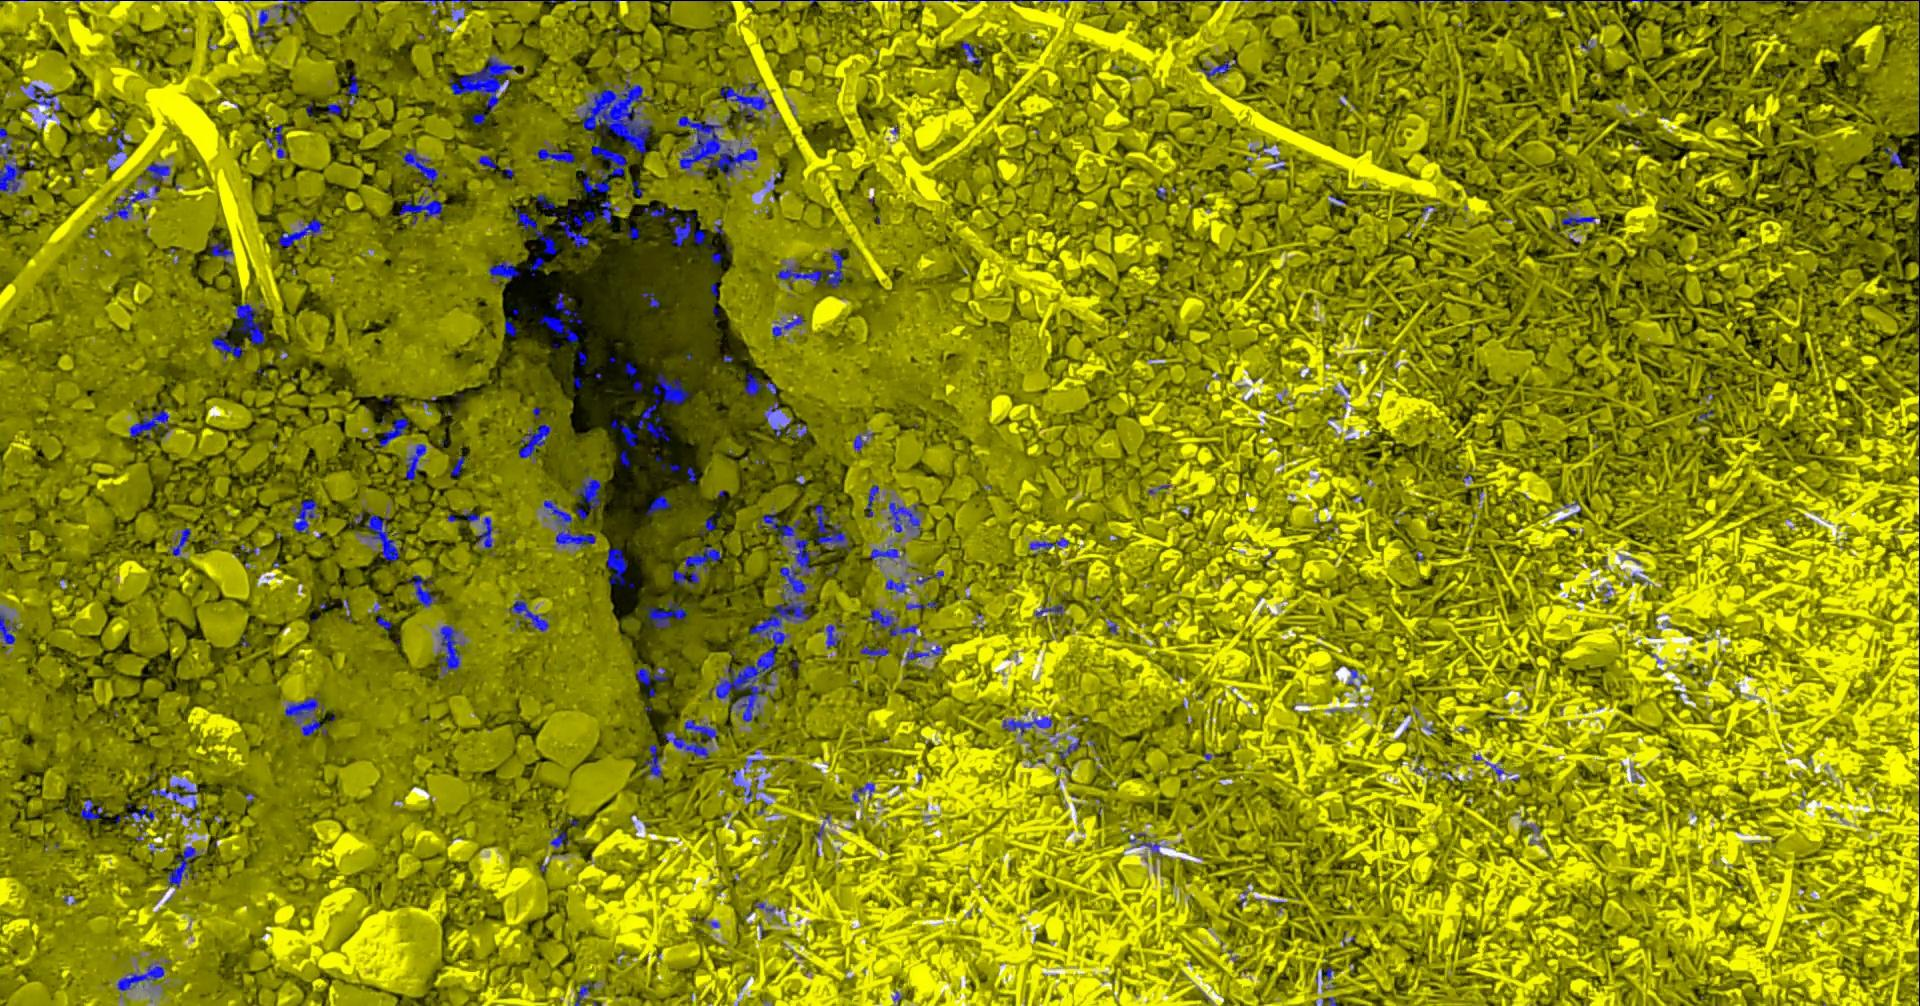ant: (211, 302, 264, 358), (776, 249, 847, 290), (582, 141, 626, 196), (543, 500, 596, 546), (719, 83, 773, 122), (663, 719, 716, 758), (670, 546, 721, 587), (514, 207, 556, 254), (0, 127, 25, 193), (284, 696, 326, 735), (363, 514, 399, 560), (813, 503, 847, 549), (102, 188, 149, 221), (397, 149, 438, 185), (863, 608, 917, 636), (397, 192, 442, 225), (557, 208, 596, 246), (277, 218, 323, 249), (116, 962, 163, 989), (508, 600, 549, 631), (130, 409, 169, 439), (573, 475, 599, 520), (518, 423, 551, 459), (168, 845, 196, 887), (644, 600, 684, 627), (888, 500, 919, 536), (437, 625, 460, 673), (538, 314, 578, 342), (606, 547, 632, 587), (670, 215, 703, 246), (635, 666, 668, 696), (290, 498, 317, 533), (378, 417, 411, 446), (1250, 142, 1284, 170), (1002, 716, 1051, 735), (408, 574, 437, 606), (554, 291, 582, 324), (477, 155, 514, 177), (143, 163, 169, 193), (249, 9, 273, 41), (743, 372, 776, 395), (405, 443, 425, 480), (610, 419, 637, 446), (771, 314, 803, 337), (114, 804, 155, 822), (905, 645, 943, 663), (264, 124, 284, 158), (488, 260, 521, 281), (102, 128, 124, 158), (1561, 213, 1595, 232), (273, 0, 312, 17), (1199, 58, 1230, 79), (174, 782, 197, 810), (643, 744, 662, 777), (150, 788, 184, 805), (80, 798, 107, 821), (961, 41, 982, 70), (0, 611, 17, 647), (536, 147, 574, 163), (170, 527, 190, 555), (818, 624, 841, 648), (573, 981, 596, 1005), (29, 84, 55, 105), (869, 544, 899, 561), (476, 516, 493, 547), (210, 240, 232, 263), (645, 494, 670, 514), (536, 193, 556, 217), (344, 74, 359, 105), (1029, 537, 1068, 549), (851, 782, 874, 801), (865, 484, 877, 517), (1059, 739, 1079, 760), (1035, 603, 1062, 619), (885, 578, 909, 594), (916, 570, 943, 584), (599, 199, 615, 224), (1883, 147, 1902, 166), (450, 456, 465, 479), (549, 829, 568, 847), (1135, 841, 1161, 854), (527, 257, 543, 276), (763, 400, 778, 420), (858, 645, 888, 655), (641, 291, 659, 307), (698, 517, 715, 533), (1316, 967, 1332, 983), (905, 600, 936, 608), (770, 422, 789, 436), (753, 901, 775, 912), (643, 206, 665, 216), (790, 423, 806, 437), (325, 102, 342, 114), (853, 433, 865, 451), (376, 616, 391, 629), (504, 320, 516, 337), (618, 450, 629, 467), (623, 361, 636, 375), (472, 112, 485, 124), (1402, 0, 1454, 3), (626, 227, 639, 238)
